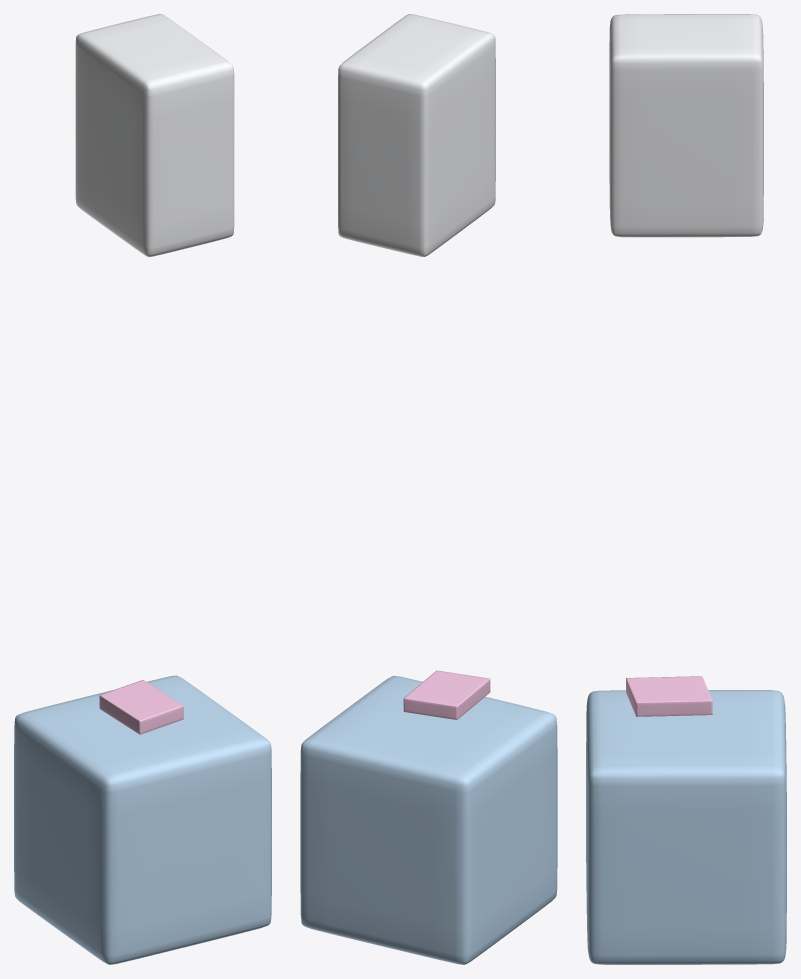
Rendered from PROP_ToyCar_v1.glb.
The picture shows the model from 3 angles, left to right: view 1: azimuth 30°, elevation 25°; view 2: azimuth 150°, elevation 25°; view 3: azimuth 270°, elevation 25°; orthographic projection. The views are drawn at different scales.
Parts seen in each view (by area): view 1: PROP_ToyCar_v1; view 2: PROP_ToyCar_v1; view 3: PROP_ToyCar_v1.
Boxes of the visible parts, <box> form: PROP_ToyCar_v1: <box>14,14,271,964</box>; PROP_ToyCar_v1: <box>300,14,557,964</box>; PROP_ToyCar_v1: <box>586,14,786,964</box>.
Bounding box in the file's own units: 0.9629 × 4.65 × 0.9432.
